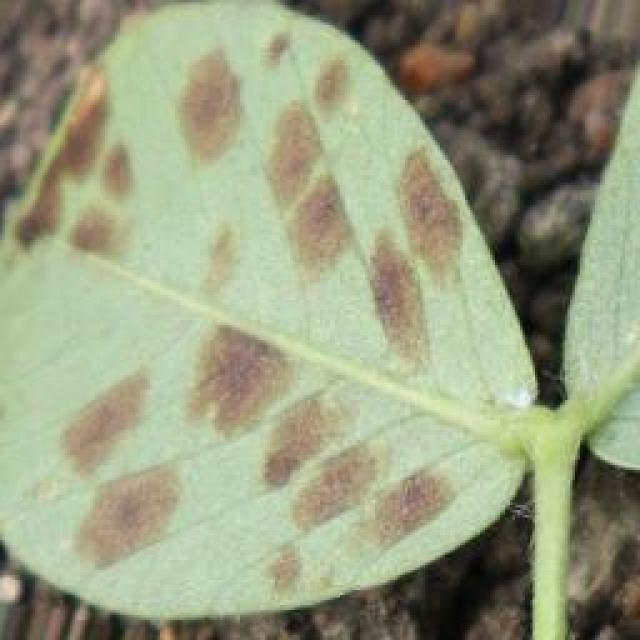Whitefly: (22, 0, 635, 552)
